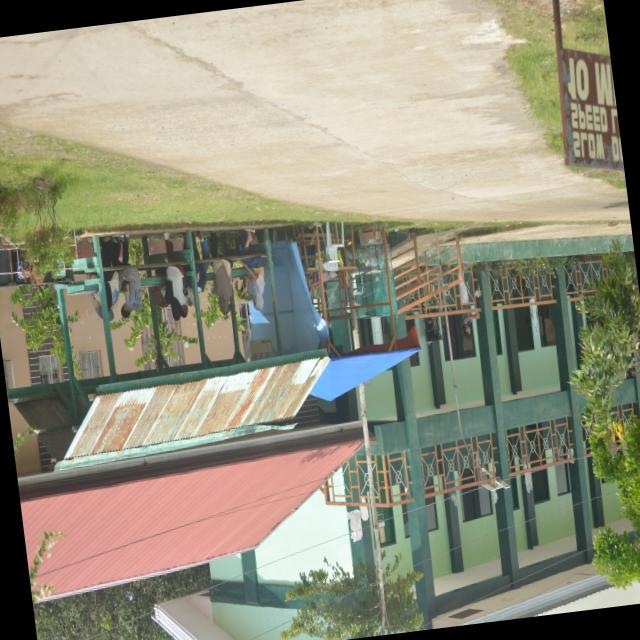person: (162, 232, 187, 319), (101, 235, 119, 319), (241, 255, 264, 310), (212, 258, 233, 313), (121, 267, 143, 316), (462, 312, 480, 337)
